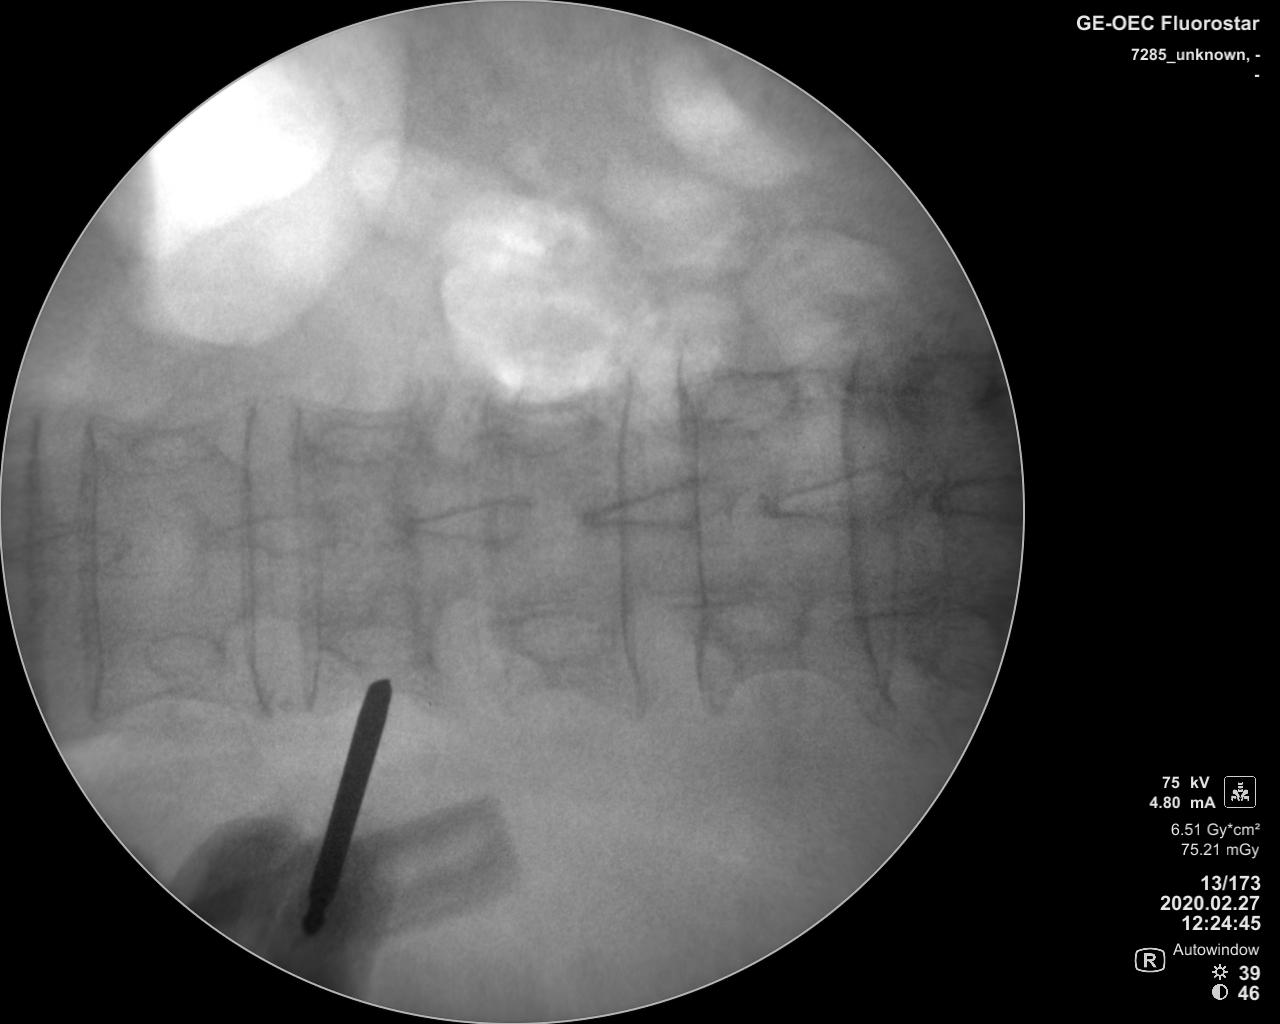eyes: (306, 394, 420, 464), (706, 582, 804, 664), (694, 360, 798, 433), (489, 393, 602, 455), (502, 613, 609, 668), (331, 618, 432, 671), (121, 420, 210, 476), (140, 631, 228, 686)
line: (841, 339, 893, 716), (669, 352, 718, 722), (615, 362, 656, 726), (284, 392, 324, 711), (232, 392, 271, 719), (74, 412, 106, 727), (27, 405, 50, 737)
nose: (759, 461, 920, 531), (571, 474, 736, 533), (383, 493, 539, 551), (206, 509, 349, 559), (5, 525, 135, 578)
